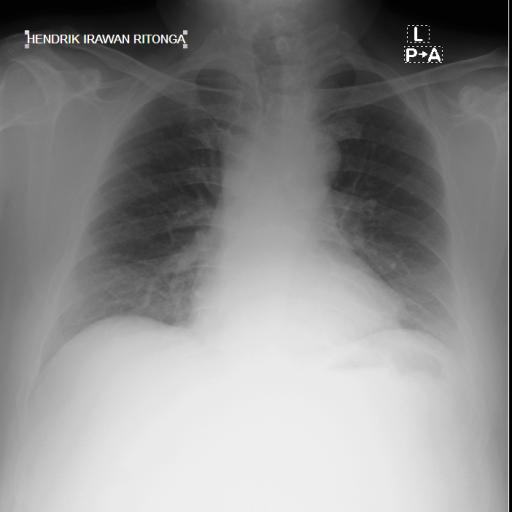kardiomegali: (31, 33, 473, 417)
